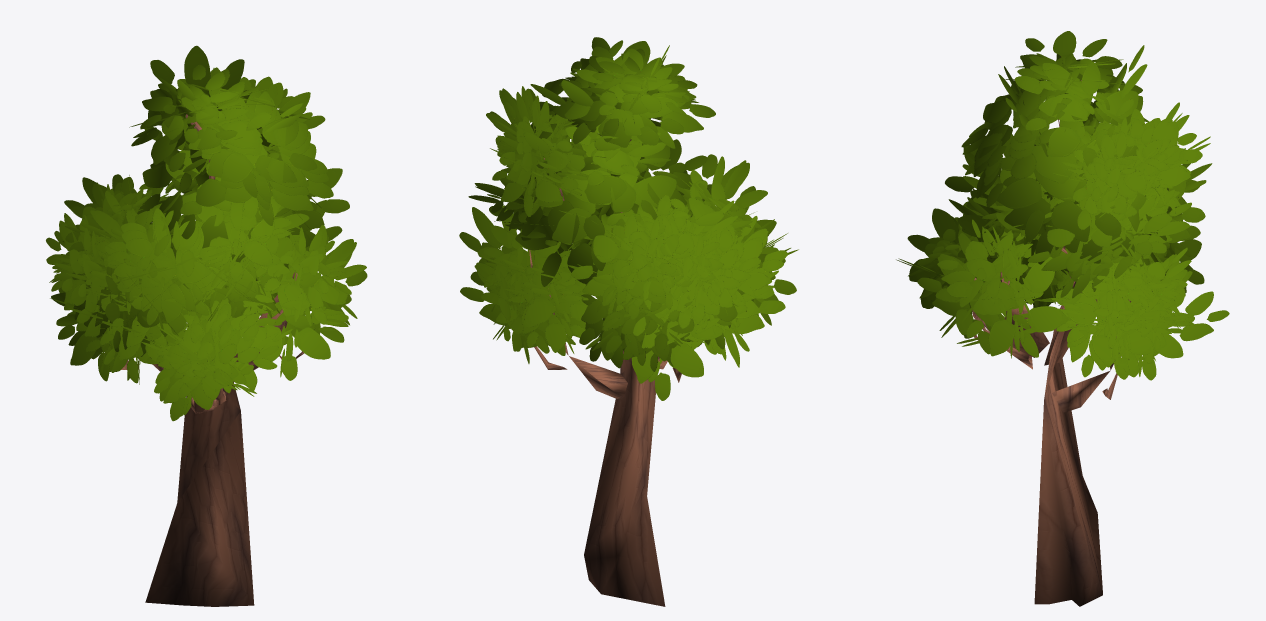
The model's file is commontree_2_1.glb.
3 renders of one model, left to right at view 1: azimuth 30°, elevation 25°; view 2: azimuth 150°, elevation 25°; view 3: azimuth 270°, elevation 25°, orthographic. The views are drawn at different scales.
Parts seen in each view (by area): view 1: CommonTree_2; view 2: CommonTree_2; view 3: CommonTree_2.
Boxes of the visible parts, x1,y1,x2,y2 form: CommonTree_2: [46, 45, 367, 606]; CommonTree_2: [459, 37, 798, 606]; CommonTree_2: [896, 31, 1229, 606].
Bounding box in the file's own units: 5.19 × 7.67 × 4.89.
Materials: 2 (2 with a texture image).
